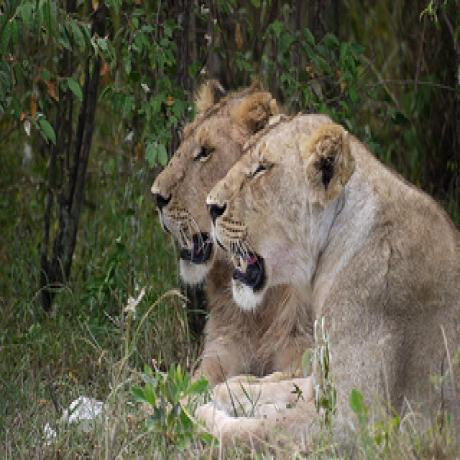Lion: (207, 106, 460, 459), (148, 71, 302, 402)
